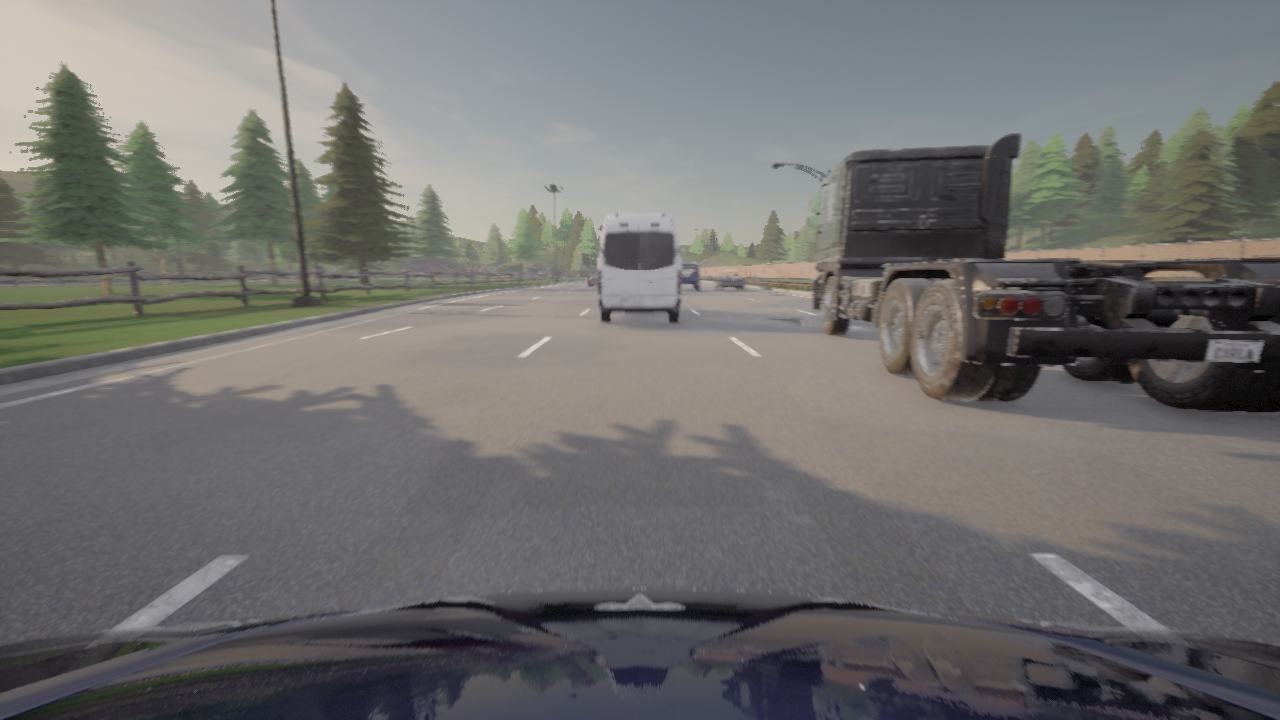cyclist: (0, 588, 1279, 719), (807, 133, 1279, 412), (597, 213, 682, 322), (715, 270, 745, 289), (681, 262, 700, 289), (589, 272, 597, 287)
